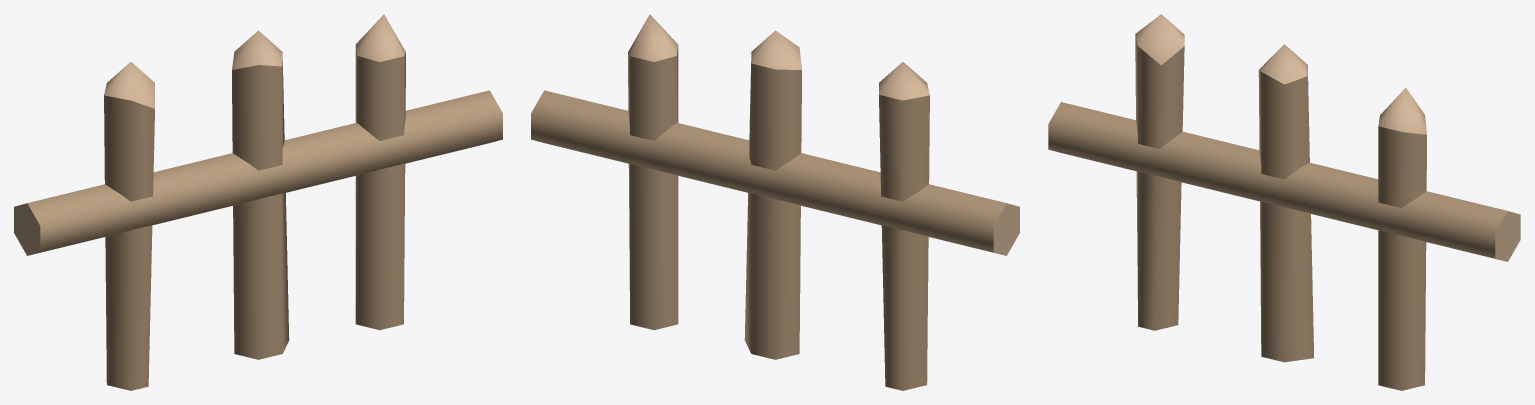
File: Scene_Home_T_Railing_SM.fbx
3 renders of one model, left to right at view 1: azimuth 30°, elevation 25°; view 2: azimuth 150°, elevation 25°; view 3: azimuth 330°, elevation 25°, orthographic. The views are drawn at different scales.
Visible parts, largest first — view 1: Scene_Home_T_Railing; view 2: Scene_Home_T_Railing; view 3: Scene_Home_T_Railing.
Boxes of the visible parts, box(x1,y1,x2,y2) form: Scene_Home_T_Railing: box(14, 14, 502, 390); Scene_Home_T_Railing: box(531, 14, 1019, 390); Scene_Home_T_Railing: box(1048, 14, 1520, 390).
Size of the model in its own units: 200 by 131 by 19.62.
1 material, 1 textured.
